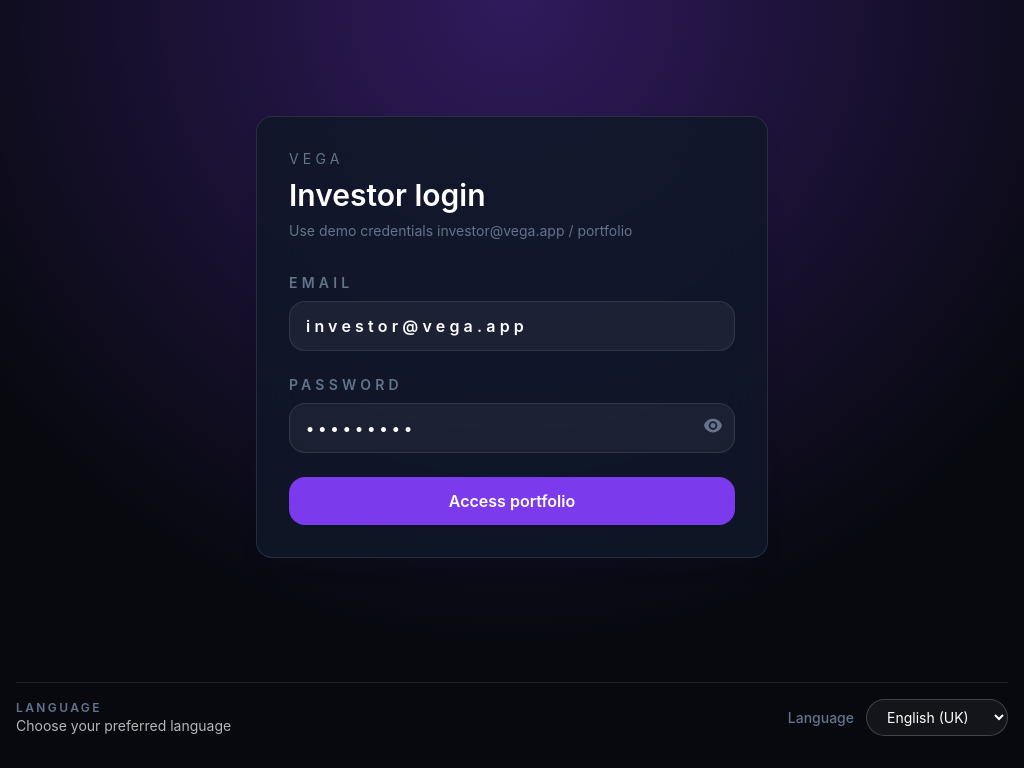
Test: LoginPage › allows toggling password visibility
Click the button named "show password". click: (713, 426)
box: x1=703 y1=416 x2=723 y2=436
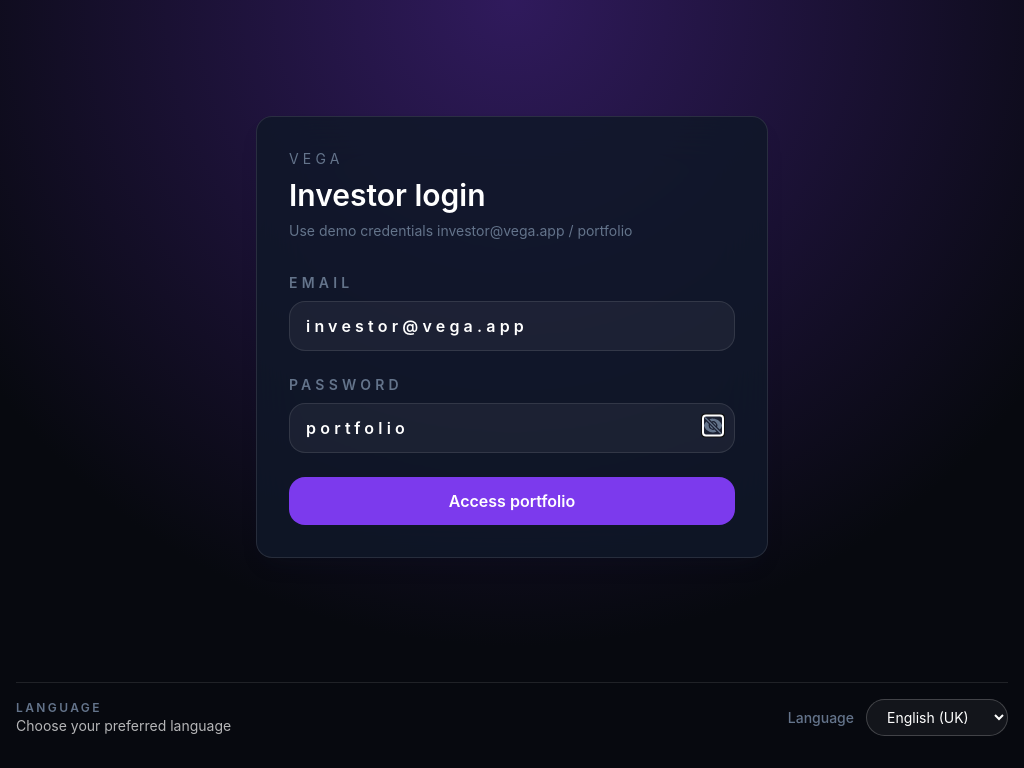
Expected: the field labelled "Password" shows its text, x1=289 y1=403 x2=735 y2=453
Click the button named "hide password". click: (713, 426)
box: x1=703 y1=416 x2=723 y2=436
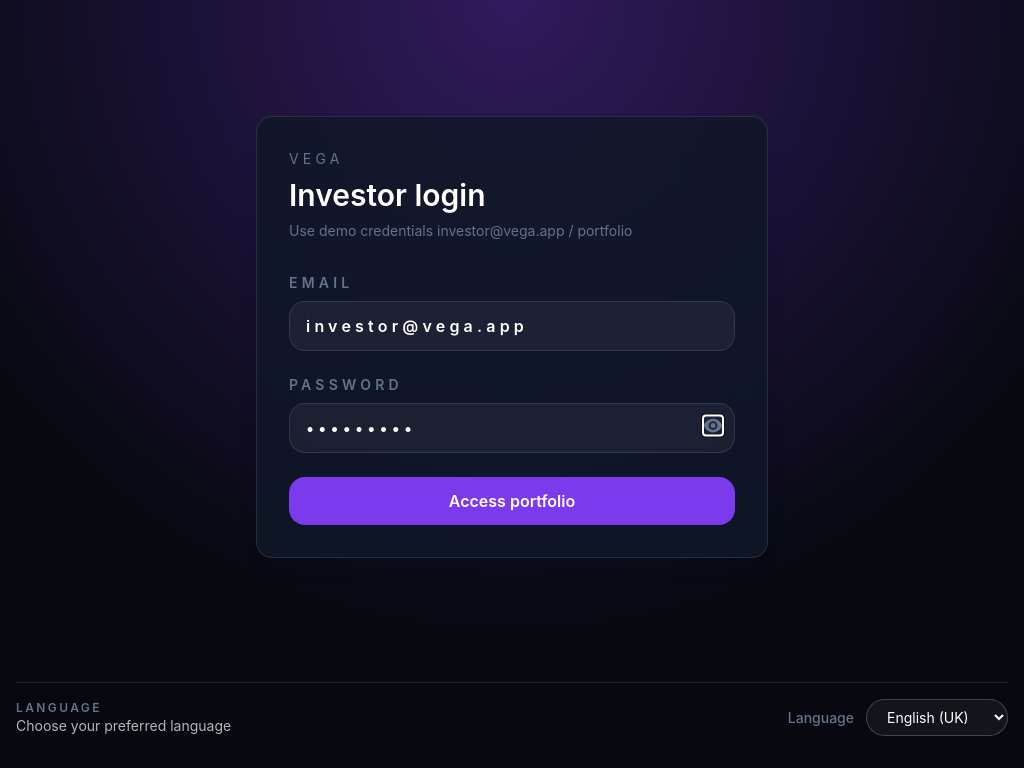
Expected: the password field labelled "Password" hides its text, x1=289 y1=403 x2=735 y2=453
